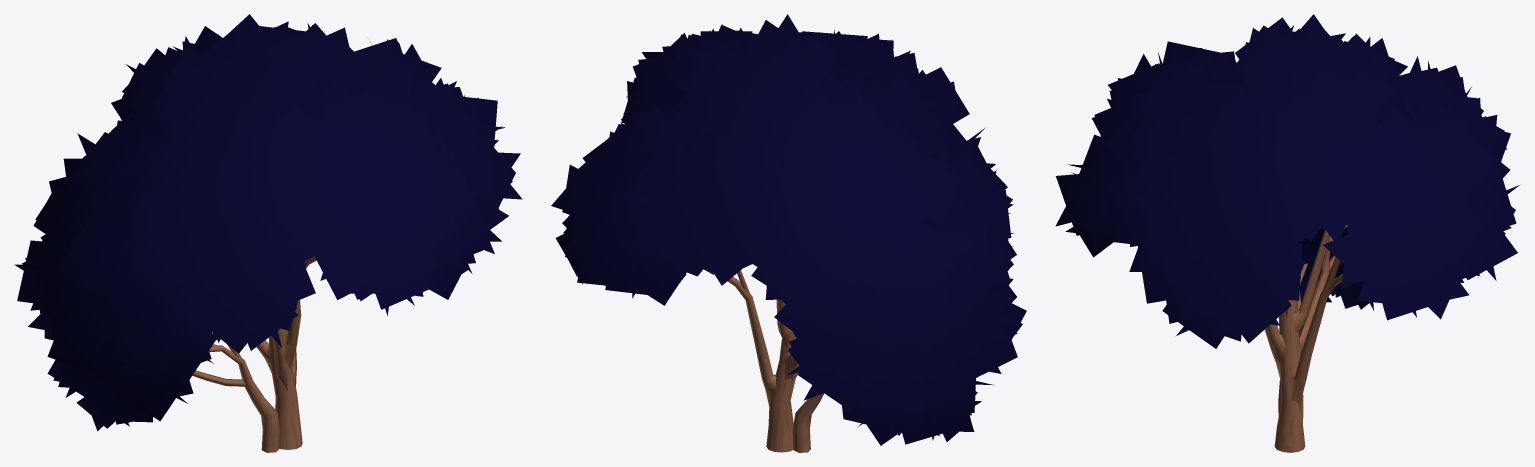
The model's file is SM_OakTree_06.fbx.
3 views of the same model, side by side, from view 1: azimuth 30°, elevation 25°; view 2: azimuth 150°, elevation 25°; view 3: azimuth 270°, elevation 25° (orthographic).
Parts seen in each view (by area): view 1: SM_OakTree_06_LOD0; view 2: SM_OakTree_06_LOD0; view 3: SM_OakTree_06_LOD0.
Boxes of the visible parts, x1,y1,x2,y2 form: SM_OakTree_06_LOD0: (14,14,522,452); SM_OakTree_06_LOD0: (551,14,1026,452); SM_OakTree_06_LOD0: (1055,14,1519,452).
Size of what is drawn, in the model's own units: 648 by 615 by 611.
